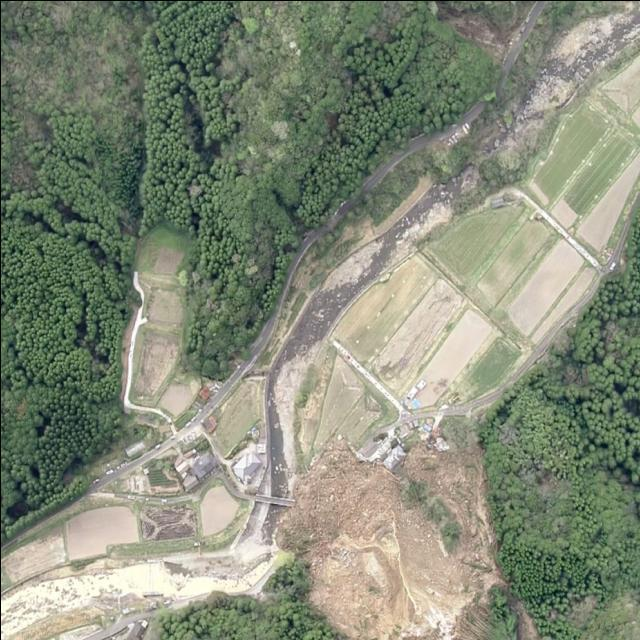landslide: (276, 421, 501, 640)
